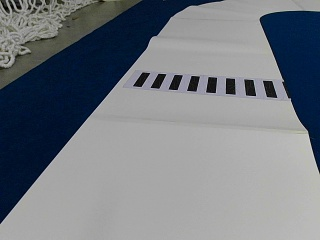crosswalk: (136, 72, 283, 98)
